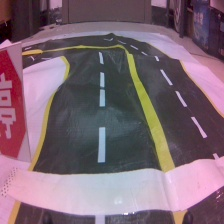stop: (1, 41, 33, 161)
